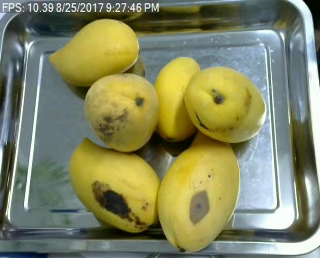Mango: (157, 128, 239, 251), (69, 138, 162, 232), (184, 65, 268, 143), (47, 18, 140, 87), (83, 72, 160, 153), (154, 54, 202, 141)
